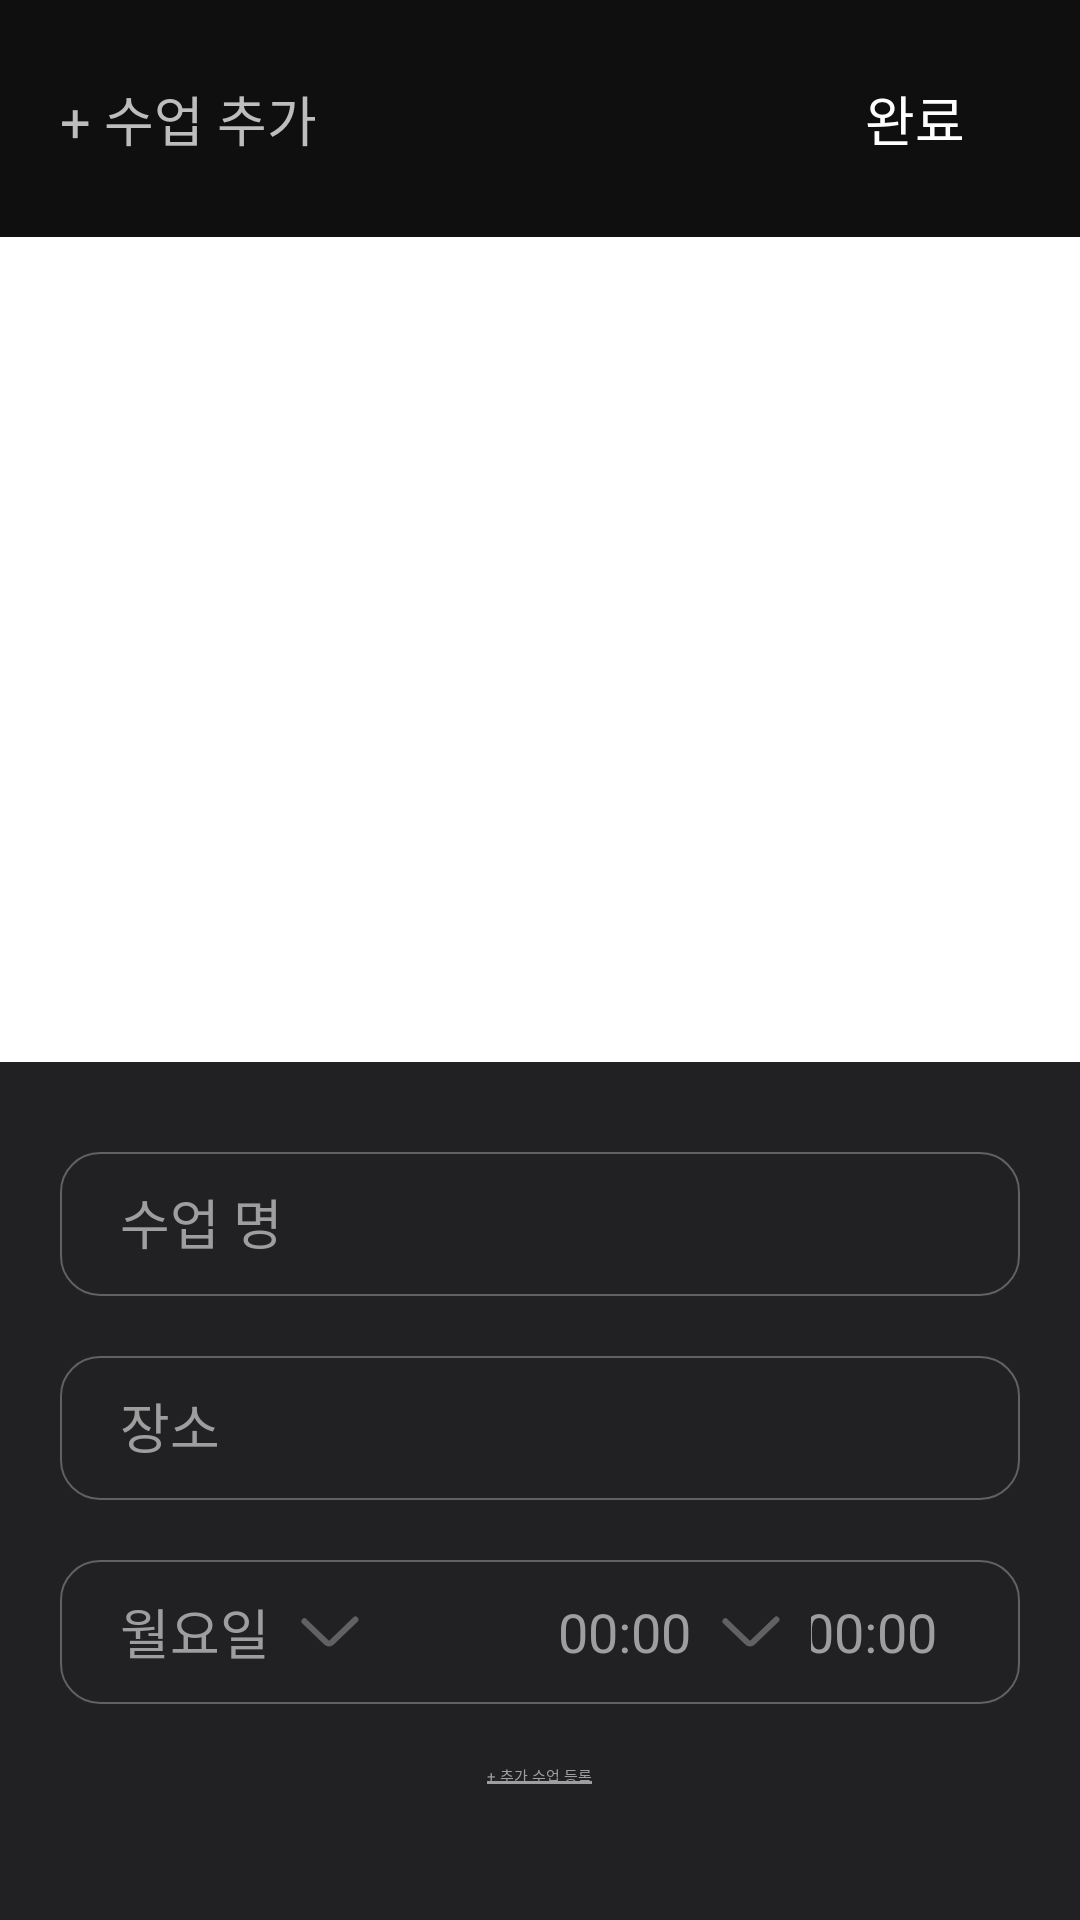

Icon bounding boxes for this 1080x1920 phone screenshot, format detection(x1, y1, x2, y2):
down arrow: detection(301, 1616, 359, 1647), detection(722, 1616, 780, 1647)
